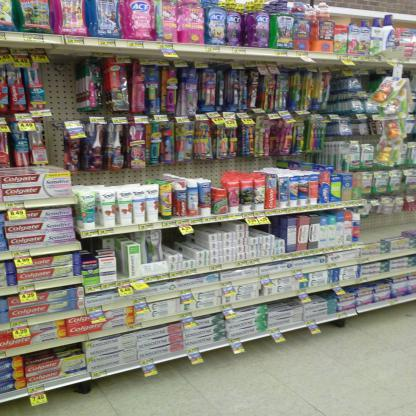Void: (52, 58, 76, 110), (362, 218, 394, 238), (165, 229, 183, 248), (21, 350, 77, 355)
